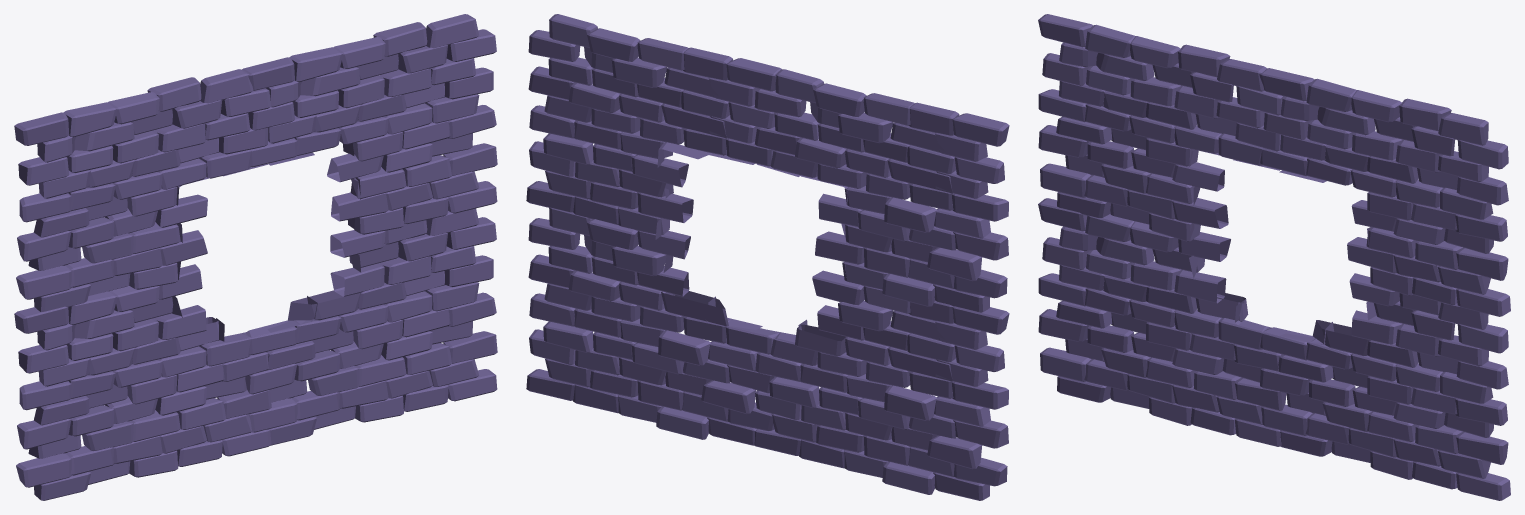
Rendered from windowWall.fbx.
3 views of the same model, side by side, from view 1: azimuth 30°, elevation 25°; view 2: azimuth 150°, elevation 25°; view 3: azimuth 330°, elevation 25° (orthographic). The views are drawn at different scales.
Visible parts, largest first — view 1: Wall.003; view 2: Wall.003; view 3: Wall.003.
Part boxes in pixels (x1,y1,x2,y2): Wall.003: [14, 14, 497, 500]; Wall.003: [526, 14, 1009, 500]; Wall.003: [1038, 14, 1510, 500].
Size of the model in its own units: 1512 by 1150 by 93.62.
